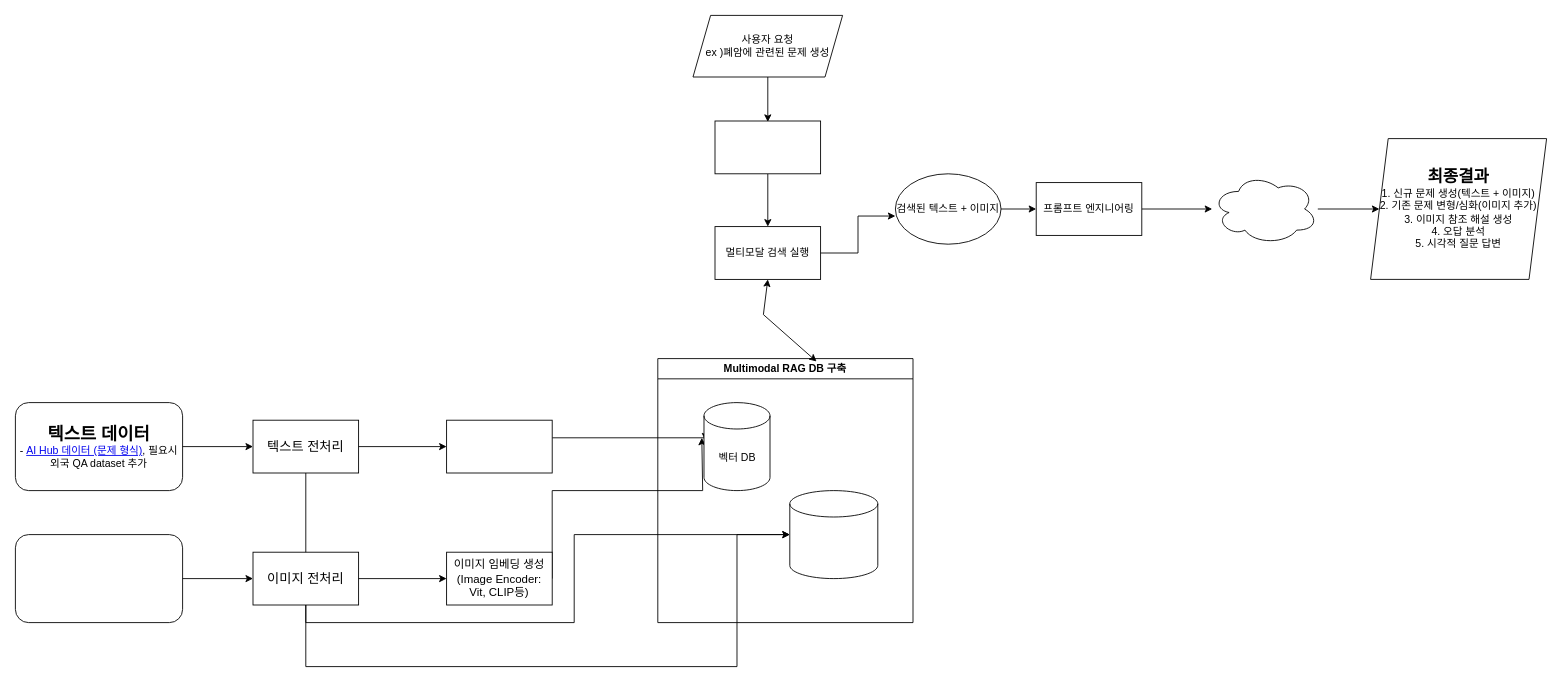
The diagram is 1562 pixels wide and 689 high, and some of its shapes have lost their labels. The shapes that lost their labels are listed below. From the top down, each one's centre as x and y in pixels, then its label:
the point at 767,147: 쿼리 이해 및 벡터 변환
the point at 1264,208: 멀티모달 LLM
the point at 499,446: 텍스트 임베딩 생성(Text Encoder)
the point at 833,534: 문서/메타데이터 저장소 (텍스트-이미지 매핑 정보)
the point at 99,578: 이미지 데이터 - 주요질환 이미지 합성데이터(CT )
